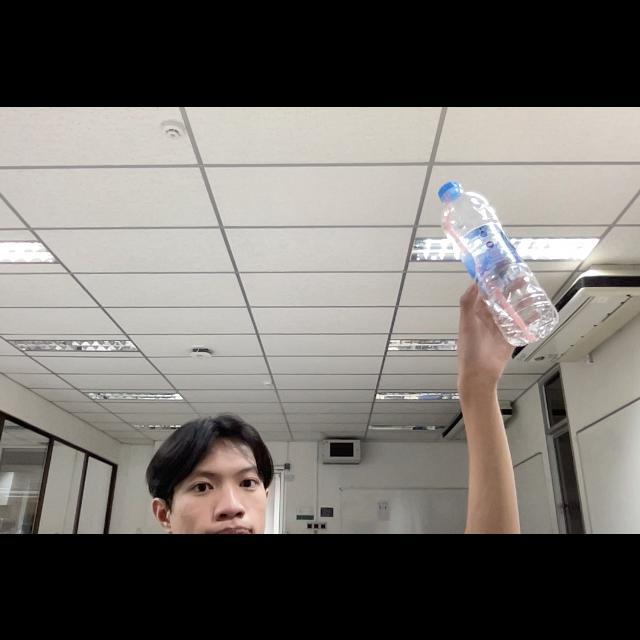plastic_bottle: (435, 180, 559, 346)
plastic_bottle_cap: (439, 180, 461, 200)
straw: (443, 206, 535, 342)
